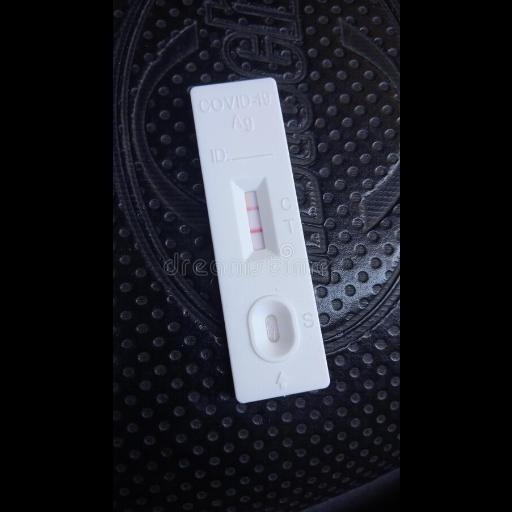Pos: (188, 76, 333, 406)
